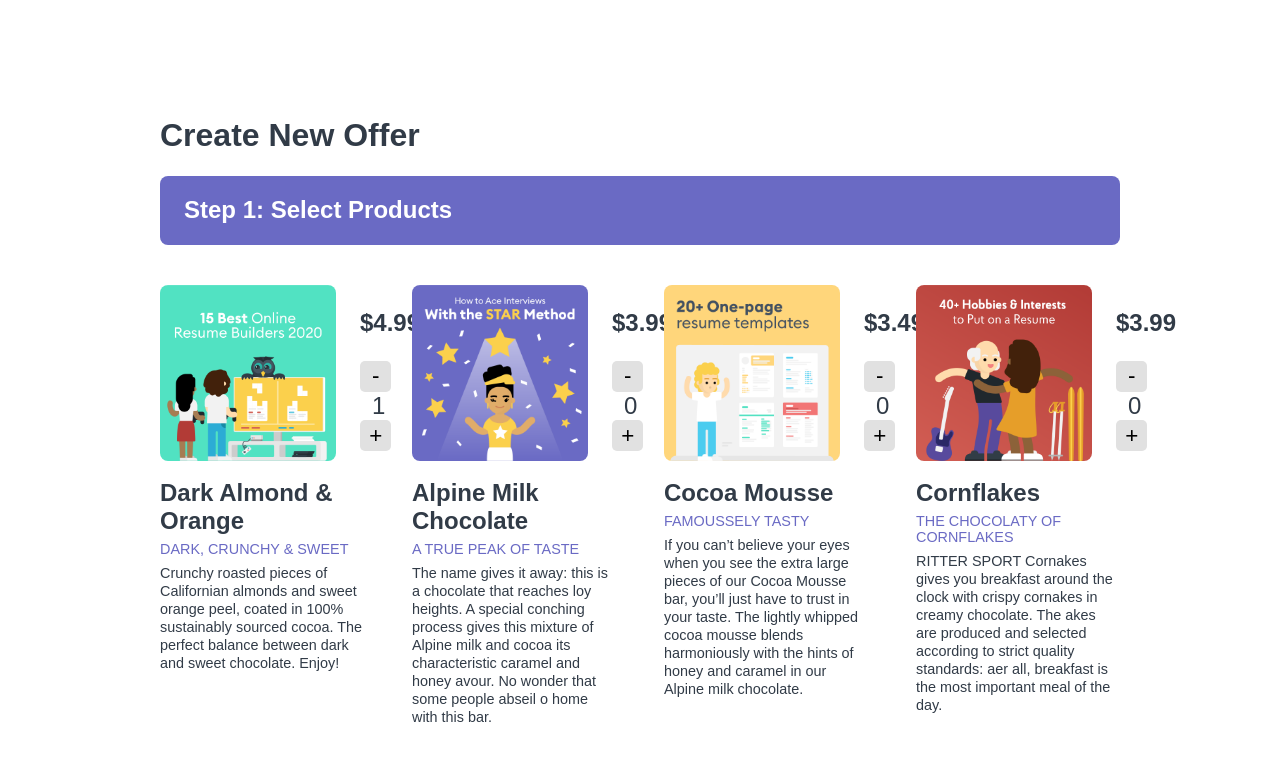
Scenario: Store › store products › should remove items from order
The image size is (1280, 774).
Click the 1st button with class "remove": (376, 376) top-left (360, 361), bottom-right (391, 392)
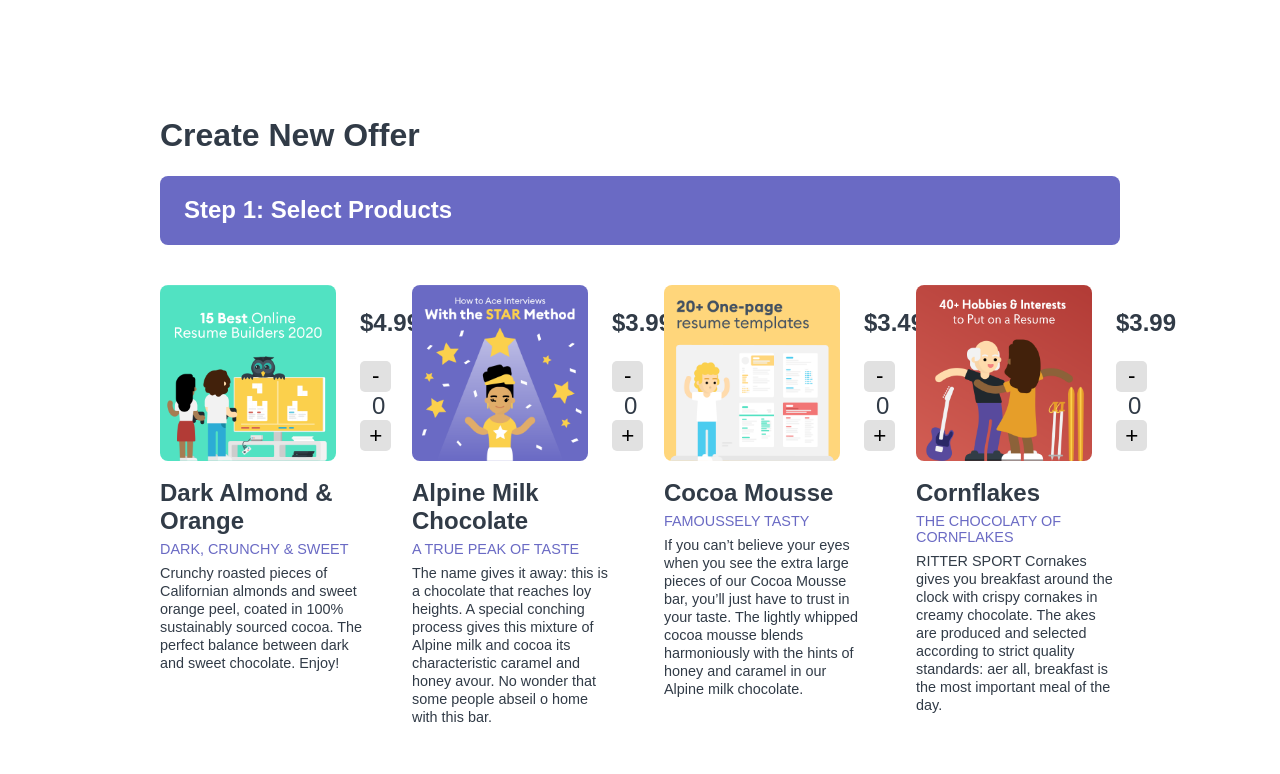
Check: the 1st text "0" is shown, box top-left (372, 392), bottom-right (385, 419)
